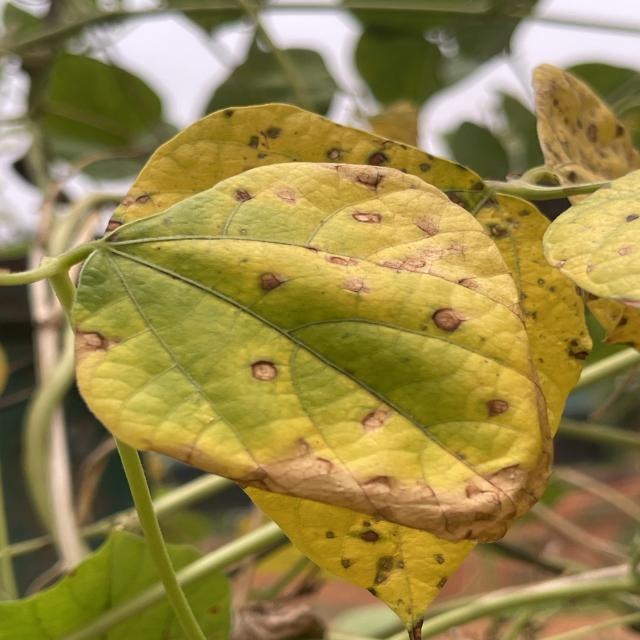Dolicos bean_cercospora leaf spot: (120, 185, 568, 632), (62, 167, 558, 547), (132, 98, 546, 436)
